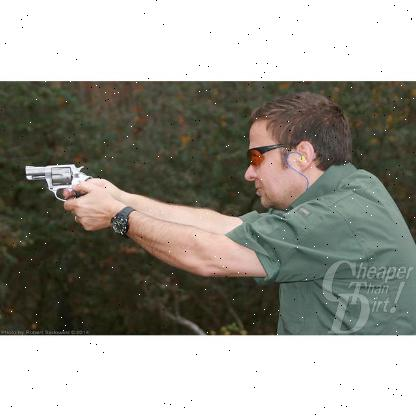gun: (22, 164, 92, 224)
